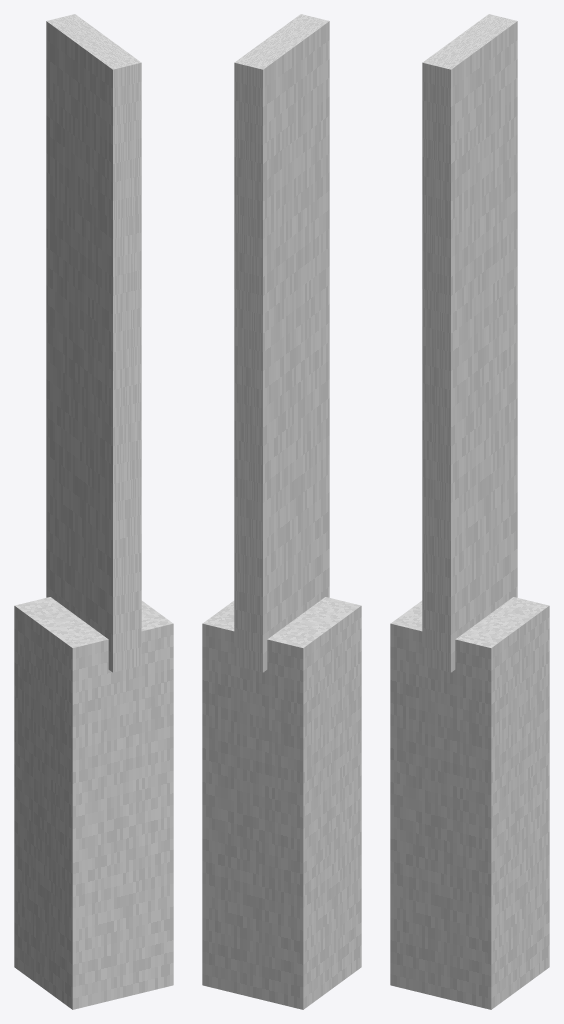
Rendered from kitchen_knife.obj.
3 renders of one model, left to right at view 1: azimuth 30°, elevation 25°; view 2: azimuth 150°, elevation 25°; view 3: azimuth 330°, elevation 25°, orthographic.
Visible parts, largest first — view 1: part0, part1; view 2: part0, part1; view 3: part0, part1.
Boxes of the visible parts, x1,y1,x2,y2 form: part0: [14, 597, 173, 1009]; part1: [46, 14, 141, 672]; part0: [202, 597, 361, 1009]; part1: [234, 14, 329, 672]; part0: [390, 597, 549, 1009]; part1: [422, 14, 517, 672].
Size of the model in its own units: 0.035 by 0.31 by 0.04.
2 materials, 2 textured.
